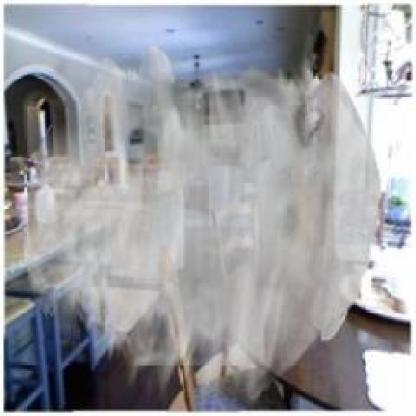Smoke: (21, 43, 380, 408)
